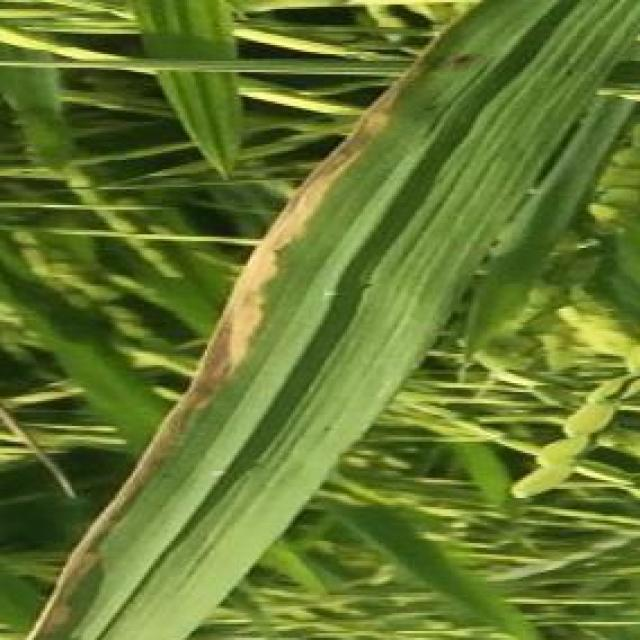Bacterial_Leaf_Blight: (144, 144, 428, 602)
